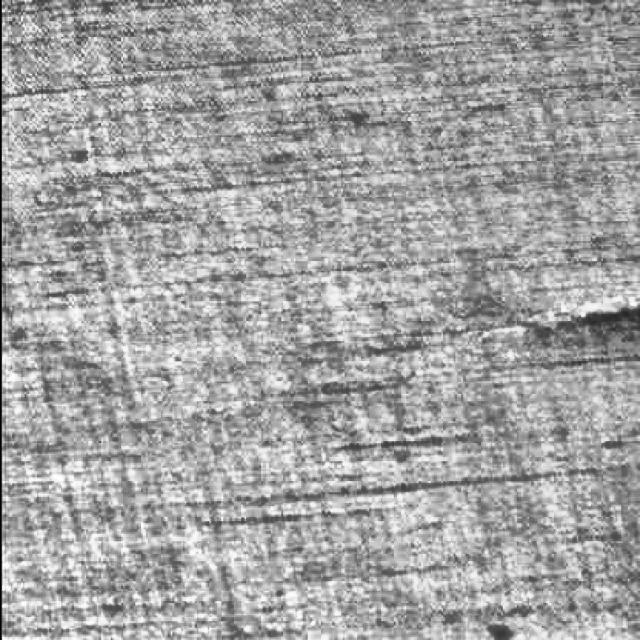thread_error: (469, 268, 640, 371)
